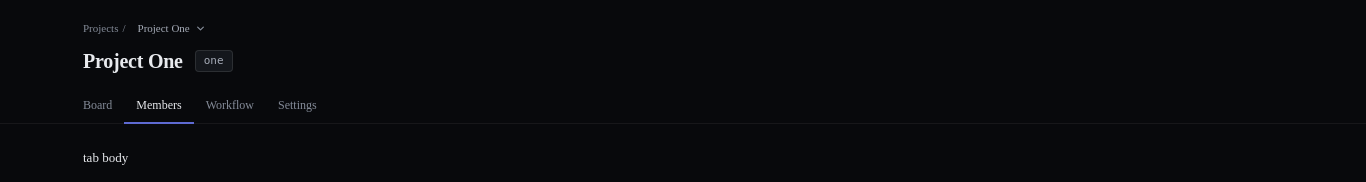
Test: hub band project picker › offers the current project when the list fails or leaves it out
The image size is (1366, 182).
Click the button with aria-label "Switch project, current: Project One": click(172, 28) [130,16,215,40]
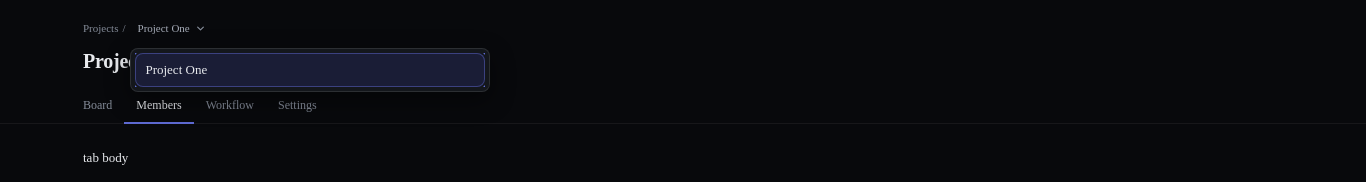
expect the menu items read "Project One", in this order: met, box [134,53,484,87]
